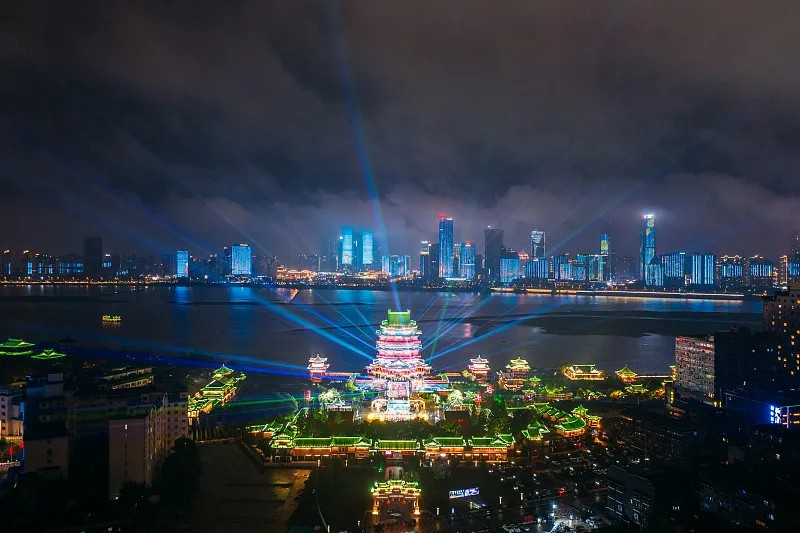Teng: (365, 308, 432, 380)
